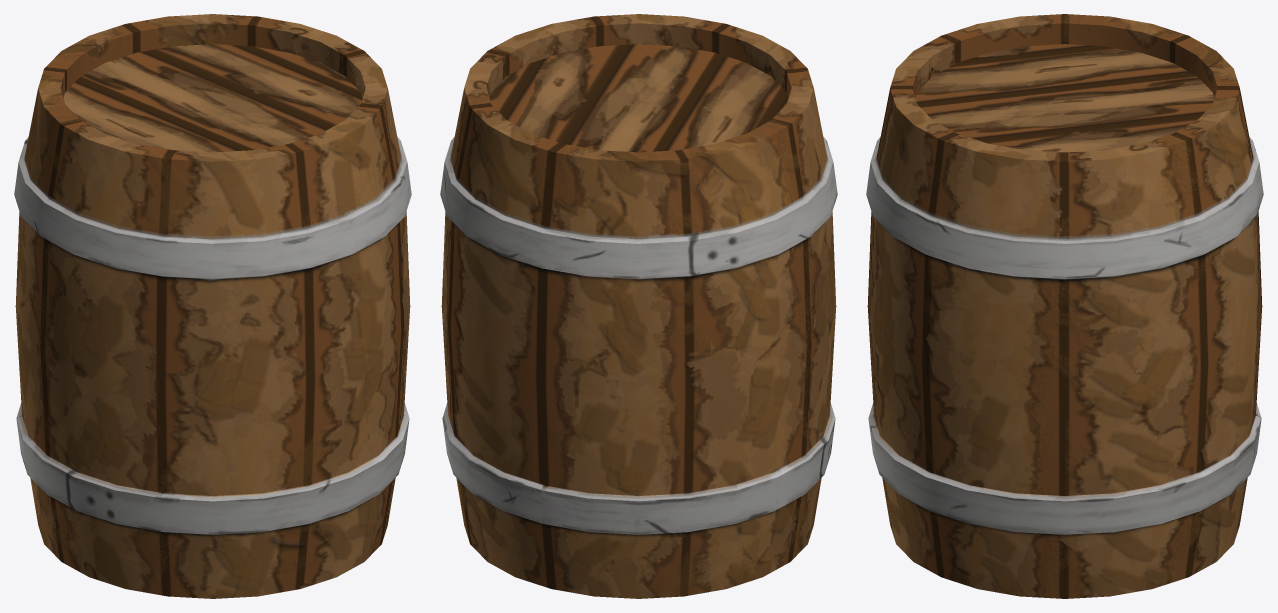
File: bbackup.obj
3 renders of one model, left to right at view 1: azimuth 30°, elevation 25°; view 2: azimuth 150°, elevation 25°; view 3: azimuth 270°, elevation 25°, orthographic.
Parts seen in each view (by area): view 1: Barrel; view 2: Barrel; view 3: Barrel.
Part boxes in pixels (box(x1,y1,x2,y2)): Barrel: box(14, 14, 411, 598); Barrel: box(440, 14, 837, 598); Barrel: box(866, 14, 1263, 598).
Bounding box in the file's own units: 4.16 × 5.05 × 4.16.
